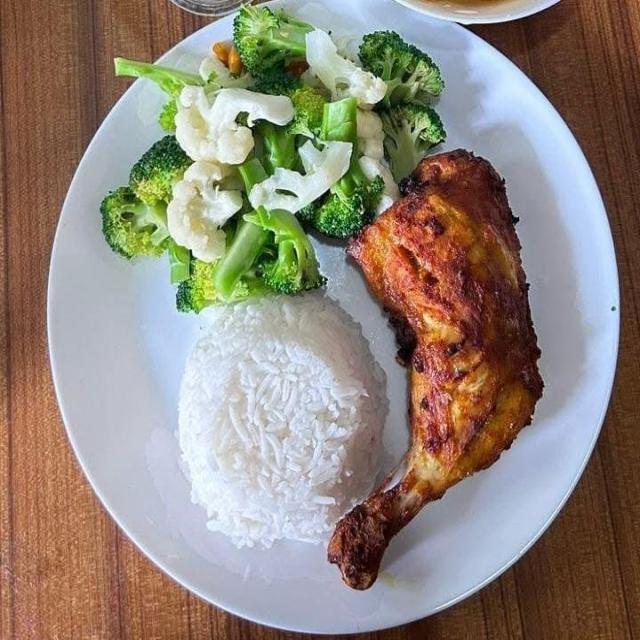Chicken: (329, 155, 541, 592)
Plate: (52, 0, 615, 629)
Rice: (177, 296, 395, 545)
Vegetables: (105, 4, 446, 310)
